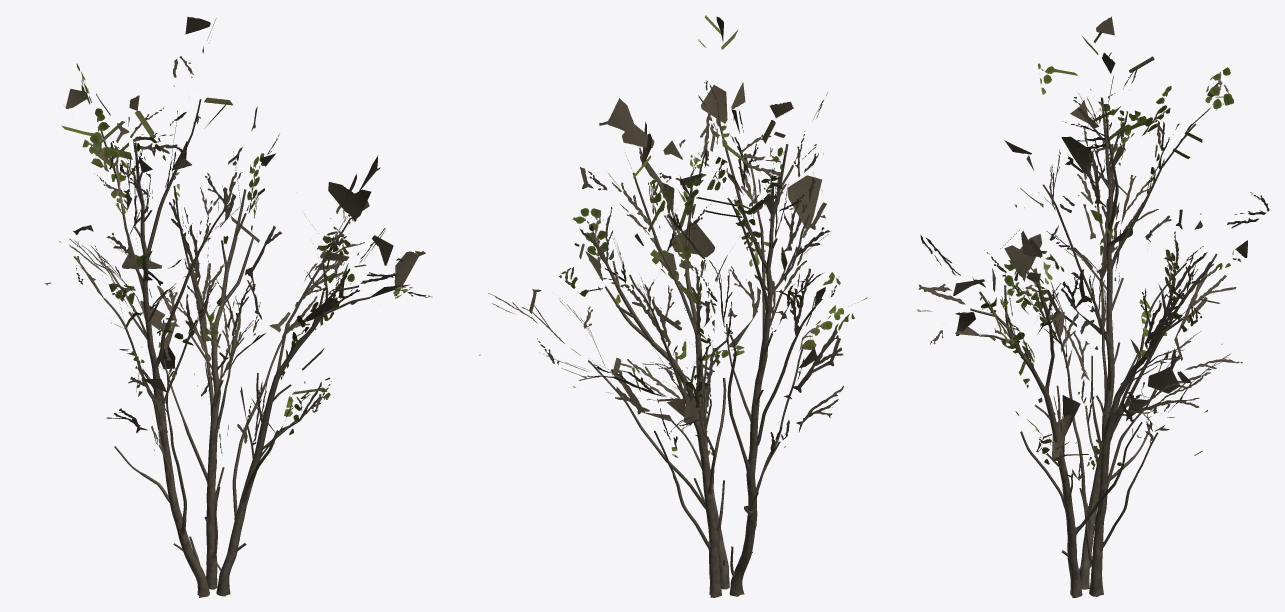
File: SM_BlackAlder_Forest_09_PP_LOD2.gltf
The picture shows the model from 3 angles, left to right: view 1: azimuth 30°, elevation 25°; view 2: azimuth 150°, elevation 25°; view 3: azimuth 270°, elevation 25°; orthographic projection. The views are drawn at different scales.
Parts seen in each view (by area): view 1: SM_BlackAlder_Forest_09_PP; view 2: SM_BlackAlder_Forest_09_PP; view 3: SM_BlackAlder_Forest_09_PP.
Boxes of the visible parts, x1=… form: SM_BlackAlder_Forest_09_PP: x1=44, y1=16, x2=432, y2=597; SM_BlackAlder_Forest_09_PP: x1=479, y1=15, x2=867, y2=597; SM_BlackAlder_Forest_09_PP: x1=917, y1=16, x2=1269, y2=597.
Bounding box in the file's own units: 3.87 × 6.01 × 3.55.
2 materials, 2 textured.
